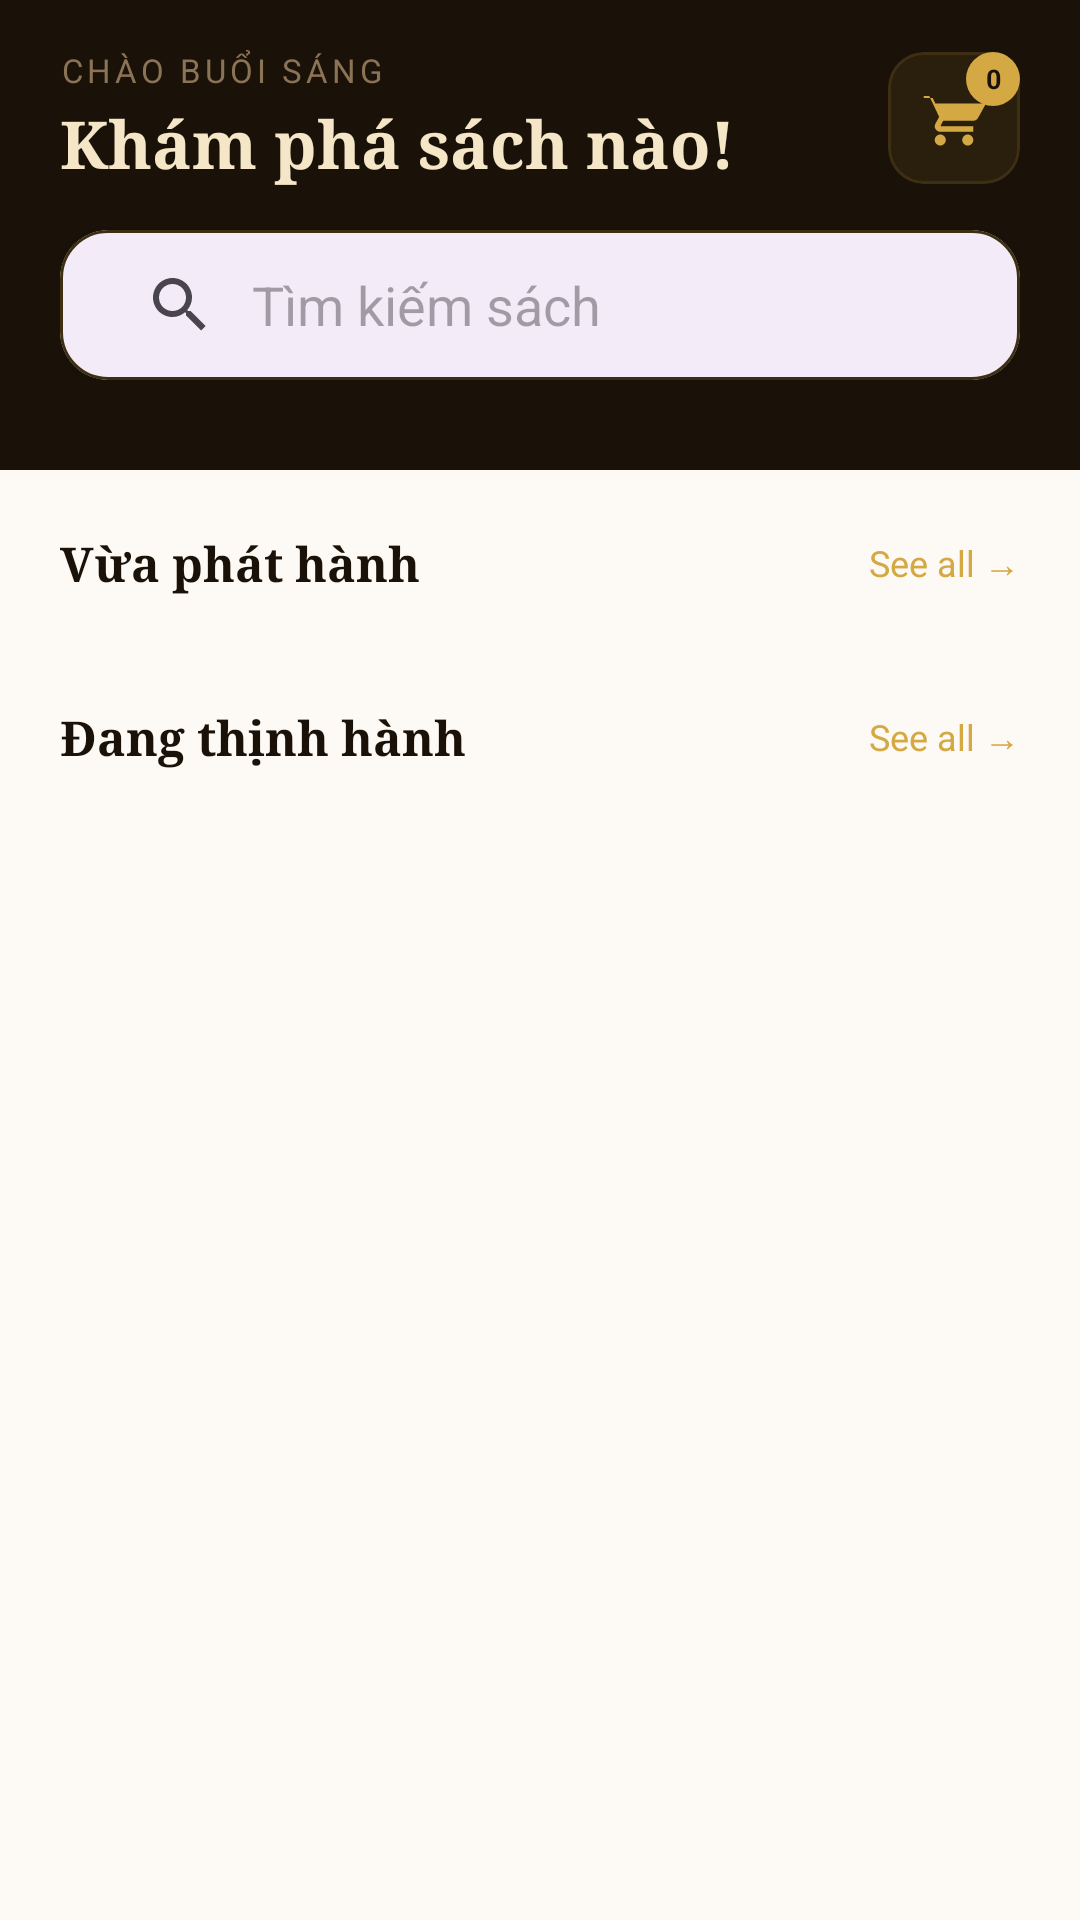

Screen size 1080px×1920px. Icon name, then its box in pixels as (x1, y1, x2, y2):
shopping cart: (923, 85, 987, 146)
